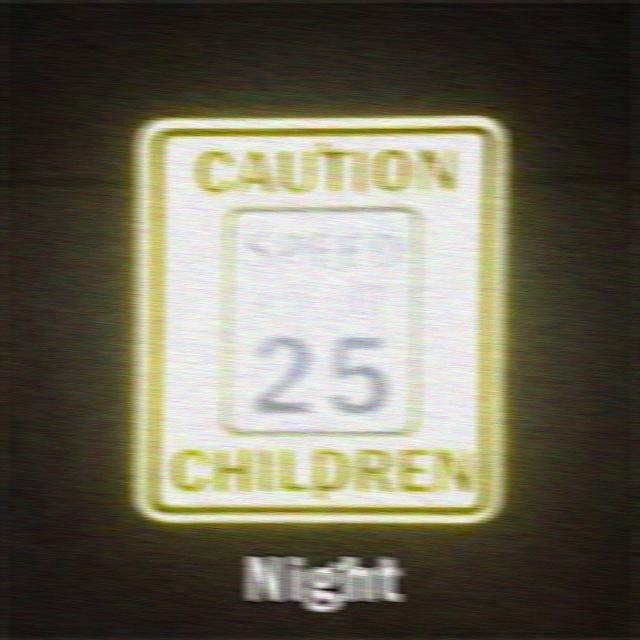speedLimit25: (230, 204, 416, 434)
